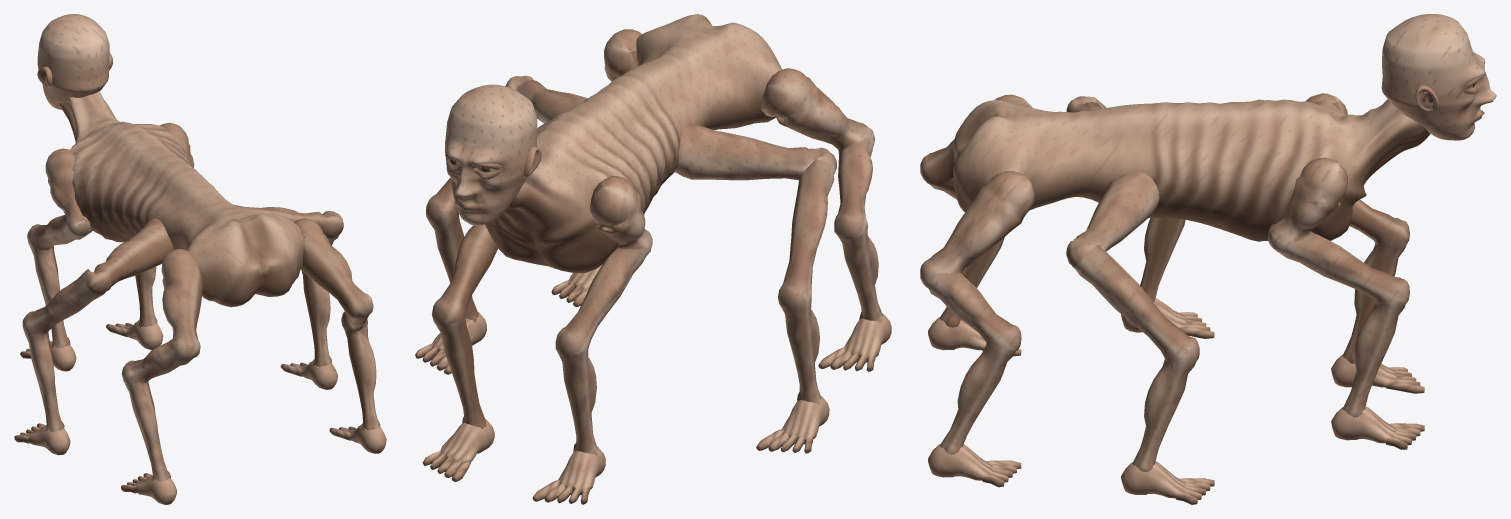
3 renders of one model, left to right at view 1: azimuth 30°, elevation 25°; view 2: azimuth 150°, elevation 25°; view 3: azimuth 270°, elevation 25°, orthographic. The views are drawn at different scales.
Bounding box in the file's own units: 1.57 × 1.55 × 2.05.
Materials: 1 (1 with a texture image).
